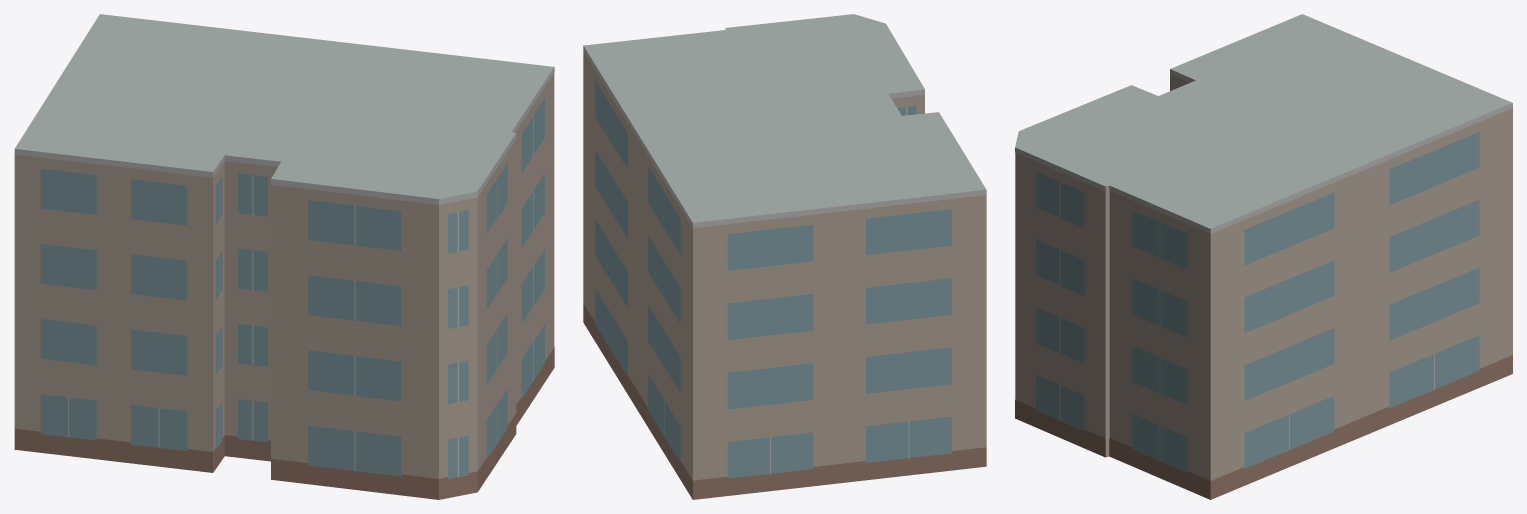
Rendered from survey-upis-32837619.glb.
3 renders of one model, left to right at view 1: azimuth 30°, elevation 25°; view 2: azimuth 150°, elevation 25°; view 3: azimuth 270°, elevation 25°, orthographic. The views are drawn at different scales.
Parts seen in each view (by area): view 1: survey-upis-32837619.tmp; view 2: survey-upis-32837619.tmp; view 3: survey-upis-32837619.tmp.
Part boxes in pixels (x1,y1,x2,y2): survey-upis-32837619.tmp: (14,14,554,499); survey-upis-32837619.tmp: (583,14,986,499); survey-upis-32837619.tmp: (1015,14,1512,499).
Size of the model in its own units: 21.6 by 12.7 by 21.15.
